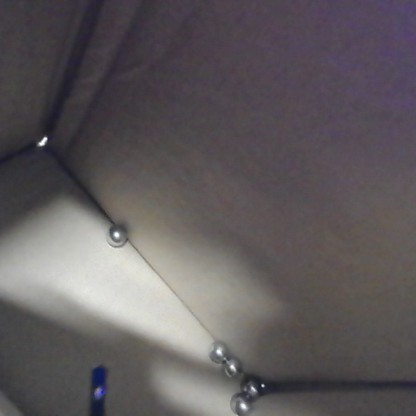ironball: (102, 221, 132, 249), (203, 332, 230, 363), (237, 372, 261, 399), (228, 390, 255, 414), (220, 355, 239, 379)
